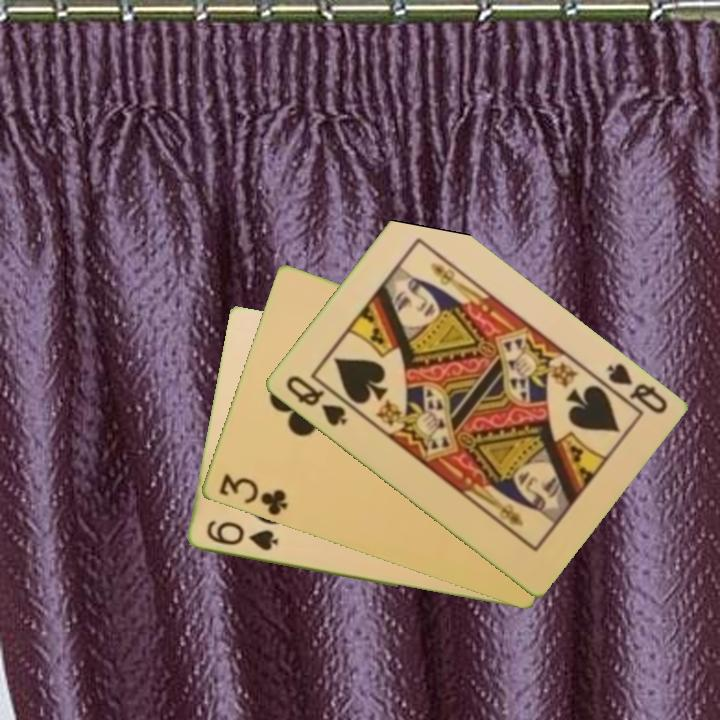3c: (214, 470, 290, 519)
6s: (202, 516, 281, 554)
Qs: (282, 372, 350, 430), (602, 359, 670, 417)
